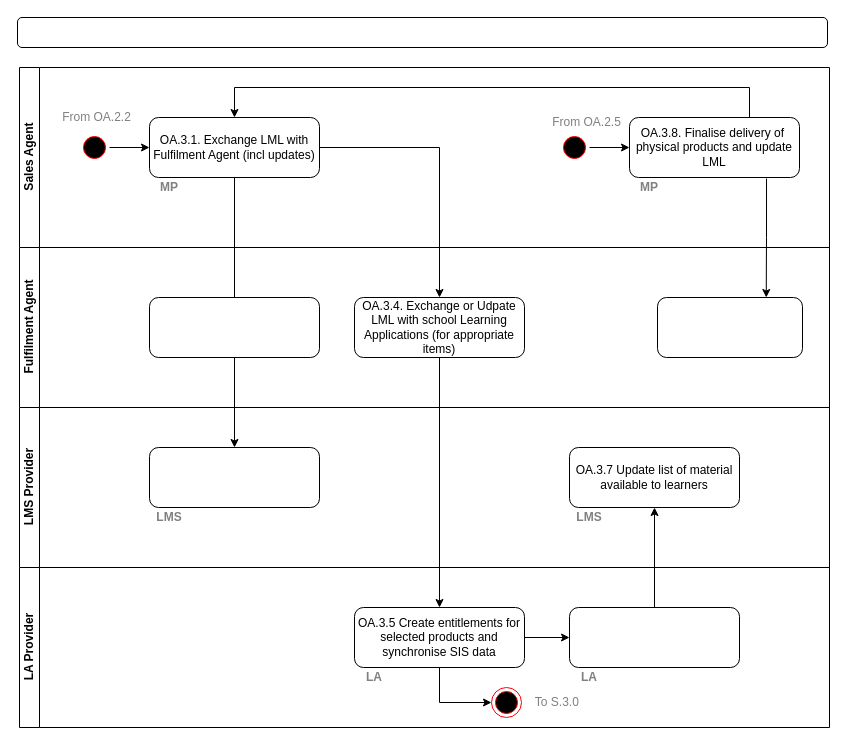
Some shapes in this 847 by 745 pixel diagram are drawn without their labels. Here are the shapes that lost their labels. From the top down, the centre of each, then its label:
the point at 422,32: OA.3.0 Sales Agent delivers purchased products
the point at 234,327: OA.3.2. Exchange or Update LML with school LMS
the point at 729,327: OA.3.9. Deliver Physical Products
the point at 234,477: OA.3.3 Update list of available material to present to teachers and learners
the point at 654,637: OA.3.6 Update LMS with status of product entitlement
